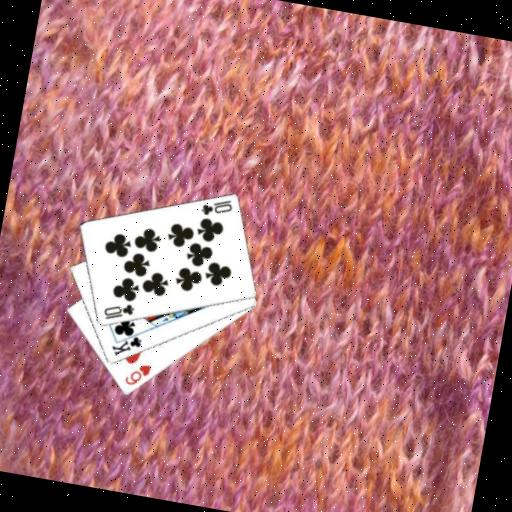10C: (98, 296, 136, 325), (197, 192, 234, 221)
6H: (121, 358, 153, 389)
KC: (106, 324, 144, 361)
